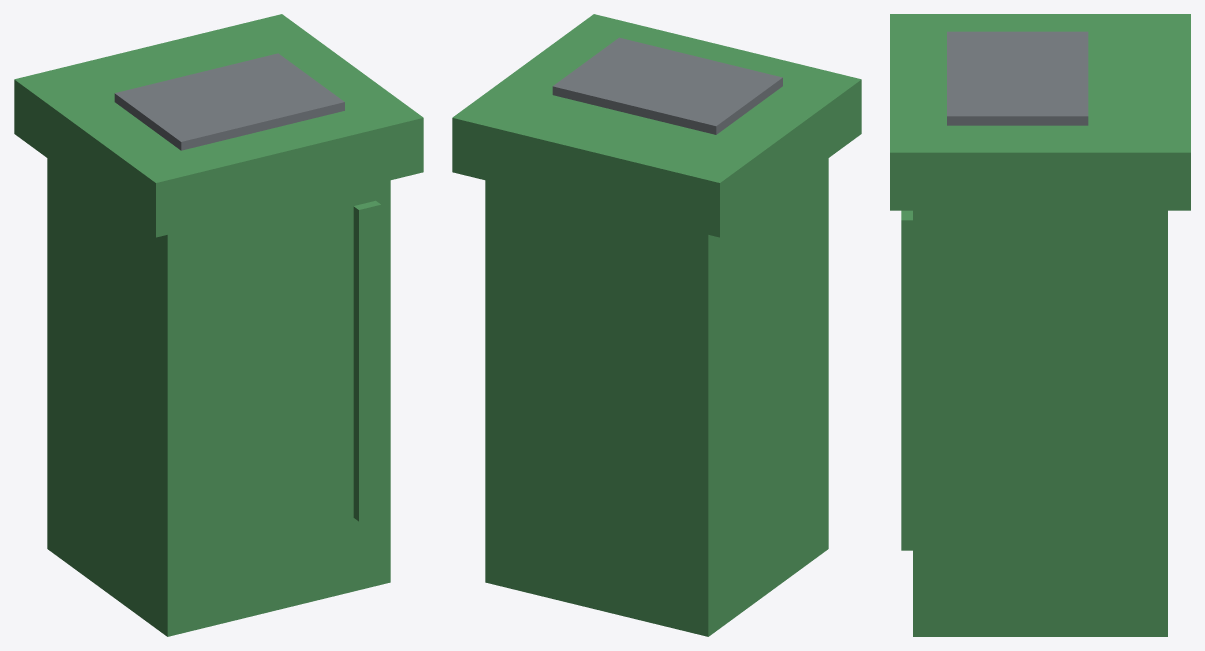
Rendered from Street_Bin_Green.glb.
The picture shows the model from 3 angles, left to right: view 1: azimuth 30°, elevation 25°; view 2: azimuth 150°, elevation 25°; view 3: azimuth 270°, elevation 25°; orthographic projection. The views are drawn at different scales.
Visible parts, largest first — view 1: Street_Bin_Green; view 2: Street_Bin_Green; view 3: Street_Bin_Green.
Part boxes in pixels (x1,y1,x2,y2): Street_Bin_Green: (14,14,423,636); Street_Bin_Green: (452,14,861,636); Street_Bin_Green: (890,14,1190,636).
Size of the model in its own units: 0.72 by 1.22 by 0.66.
